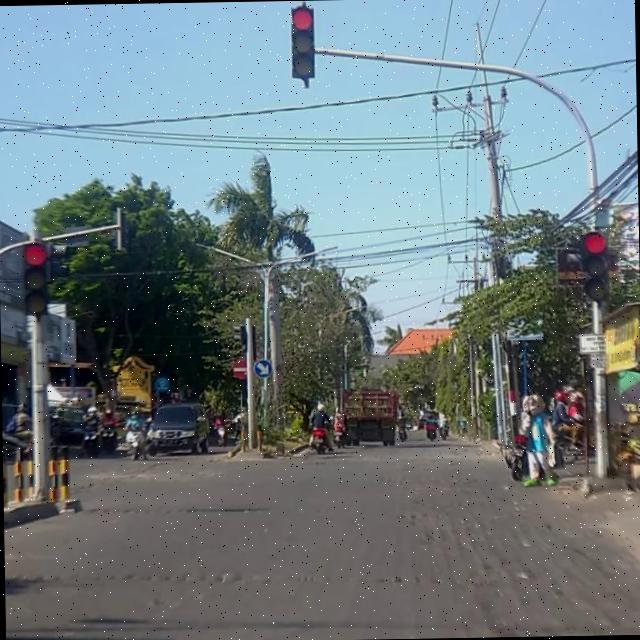red_light: (290, 3, 316, 78), (24, 238, 48, 318), (581, 233, 608, 303)
